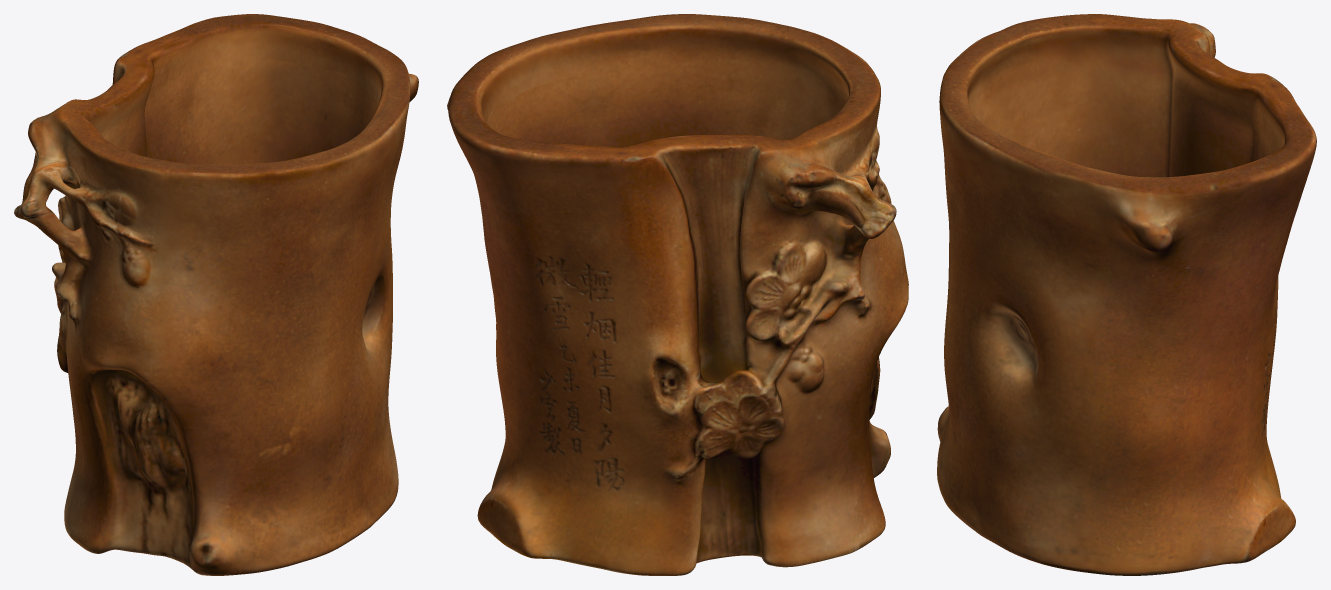
3 views of the same model, side by side, from view 1: azimuth 30°, elevation 25°; view 2: azimuth 150°, elevation 25°; view 3: azimuth 270°, elevation 25° (orthographic). The views are drawn at different scales.
Parts seen in each view (by area): view 1: szb_wy_18; view 2: szb_wy_18; view 3: szb_wy_18.
Part boxes in pixels (bbox=[...]): szb_wy_18: bbox=[14, 14, 418, 575]; szb_wy_18: bbox=[447, 14, 908, 575]; szb_wy_18: bbox=[937, 14, 1316, 575].
Bounding box in the file's own units: 0.088 × 0.0831 × 0.0695.
